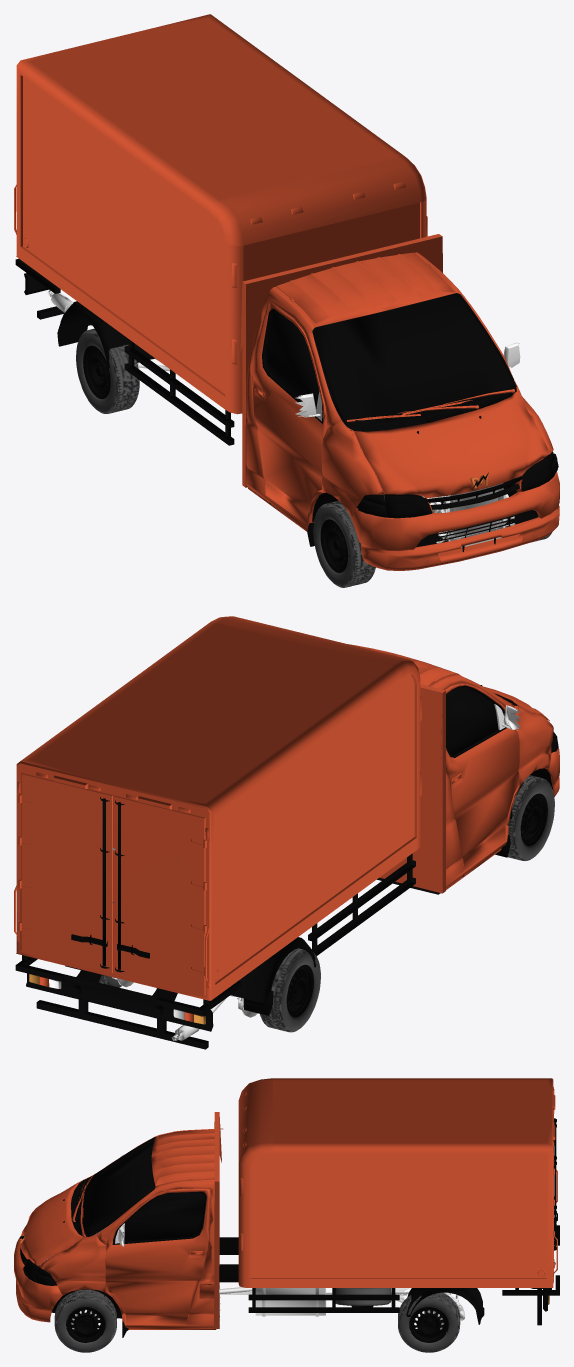
Rendered from van.glb.
3 views of the same model, one above another, from view 1: azimuth 30°, elevation 25°; view 2: azimuth 150°, elevation 25°; view 3: azimuth 270°, elevation 25° (orthographic). The views are drawn at different scales.
Visible parts, largest first — view 1: Object_62, Object_61, Object_6, Object_59, Object_19, Object_21, Object_47, Object_46, Object_22, Object_11, Object_12, Object_37 (+1 smaller); view 2: Object_62, Object_61, Object_19, Object_59, Object_22, Object_6, Object_47, Object_46, Object_40, Object_12, Object_11; view 3: Object_62, Object_61, Object_59, Object_6, Object_19, Object_22, Object_44, Object_45, Object_4, Object_10, Object_54, Object_21 (+2 smaller).
Boxes of the visible parts, x1,y1,x2,y2 form: Object_62: (14, 14, 427, 414); Object_61: (240, 234, 559, 570); Object_6: (265, 293, 558, 518); Object_59: (246, 252, 553, 556); Object_19: (15, 258, 234, 445); Object_21: (262, 293, 537, 551); Object_47: (76, 328, 139, 413); Object_46: (313, 500, 375, 587); Object_22: (24, 273, 537, 547); Object_11: (320, 519, 348, 572); Object_12: (83, 345, 110, 399); Object_37: (423, 483, 503, 541); Object_62: (14, 616, 421, 1000); Object_61: (380, 682, 559, 893); Object_19: (15, 853, 415, 1049); Object_59: (349, 644, 553, 889); Object_22: (26, 768, 552, 1031); Object_6: (446, 687, 558, 755); Object_47: (260, 948, 320, 1032); Object_46: (508, 775, 554, 860); Object_40: (71, 797, 191, 972); Object_12: (286, 964, 313, 1017); Object_11: (520, 793, 547, 846); Object_62: (238, 1078, 557, 1287); Object_61: (14, 1112, 221, 1328); Object_59: (24, 1128, 222, 1329); Object_6: (23, 1137, 204, 1285); Object_19: (219, 1225, 559, 1325); Object_22: (51, 1191, 548, 1342); Object_44: (54, 1289, 116, 1352); Object_45: (398, 1292, 460, 1352); Object_4: (255, 1262, 555, 1316); Object_10: (409, 1307, 448, 1342); Object_54: (335, 1288, 391, 1305); Object_21: (20, 1137, 155, 1264).
Size of the model in its own units: 72.12 by 87.54 by 209.
